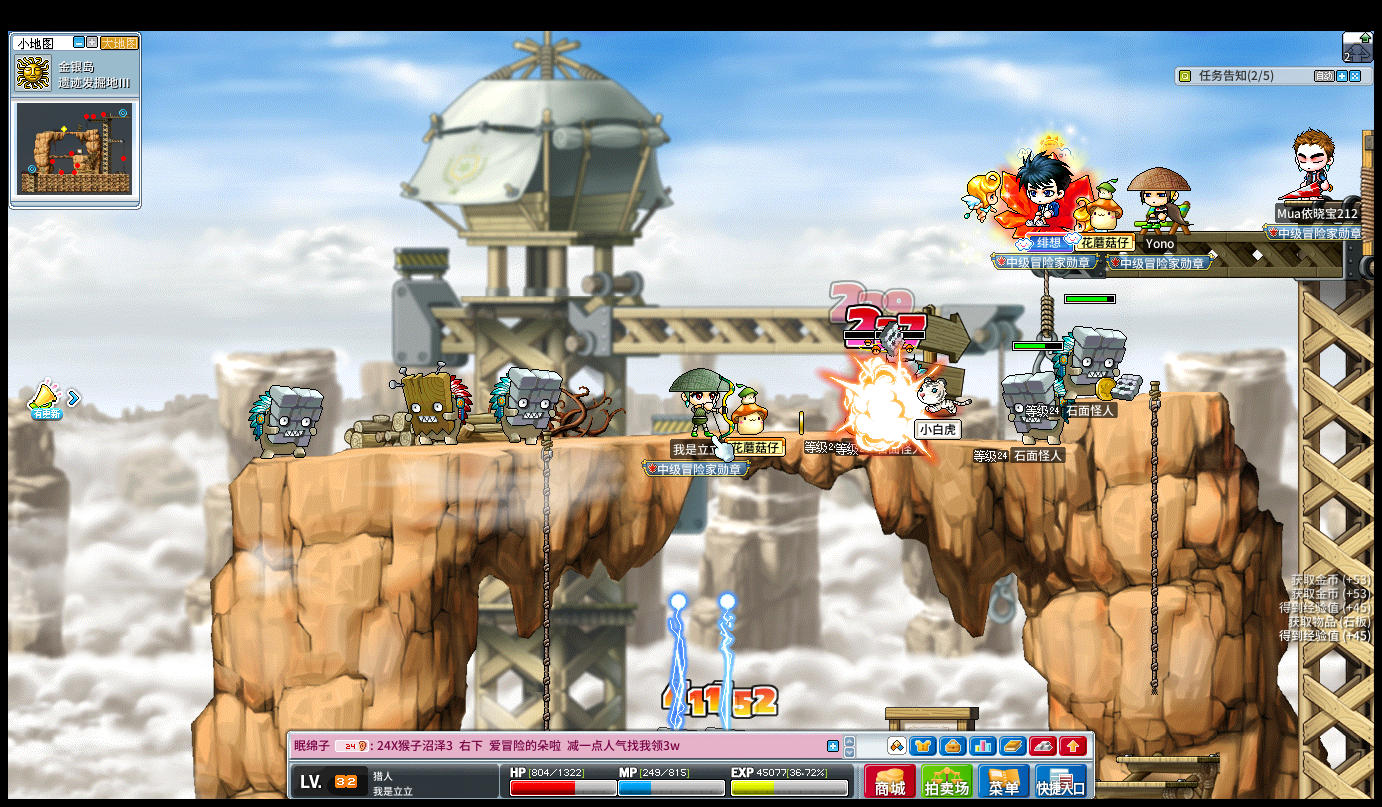floor: (257, 426, 1119, 454), (1143, 387, 1227, 404), (1116, 753, 1219, 765)
monster: (393, 362, 472, 446), (247, 384, 325, 460), (489, 365, 562, 445), (1060, 324, 1126, 402), (1001, 371, 1065, 443)
rope: (1146, 379, 1160, 701), (539, 429, 551, 773), (539, 433, 552, 673)
